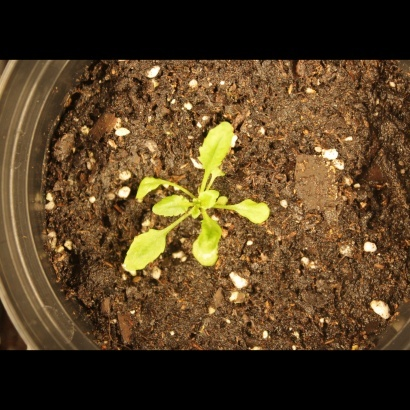leaf: (109, 229, 175, 279), (199, 114, 241, 179), (189, 214, 228, 268), (232, 193, 282, 232), (127, 166, 164, 202), (150, 191, 191, 220), (195, 185, 224, 210)
